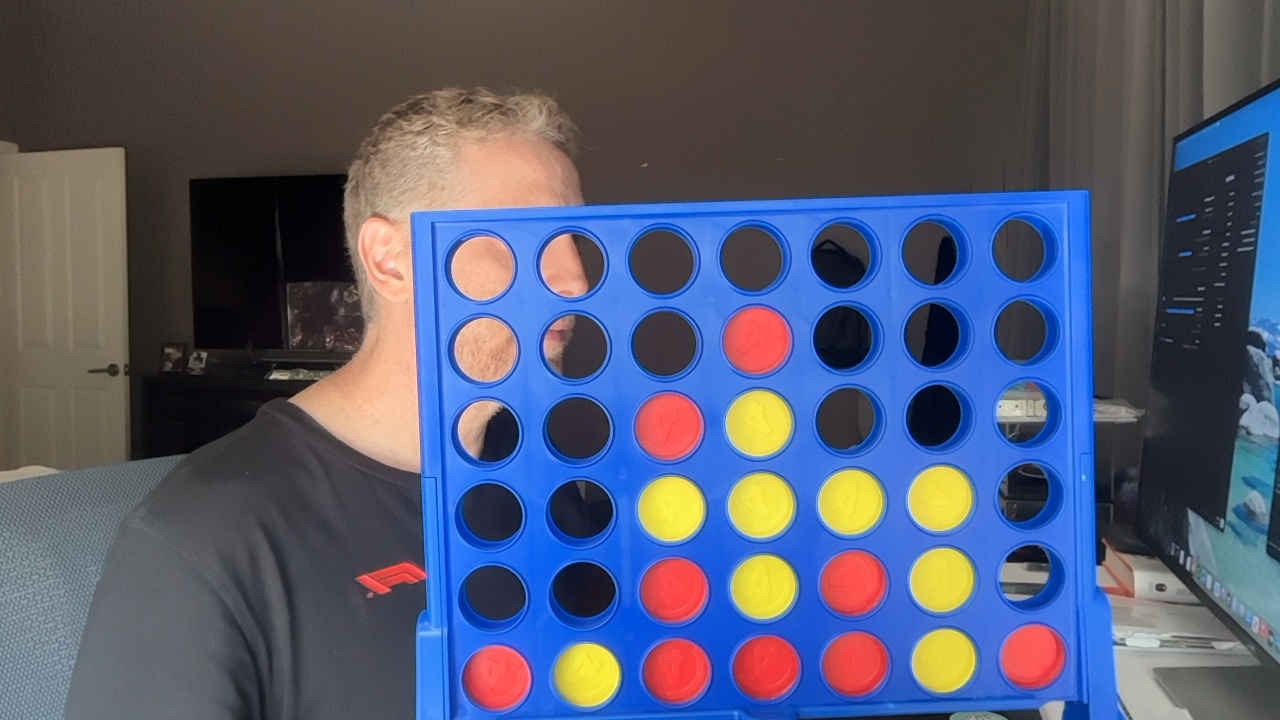red piece: (723, 306, 791, 374), (634, 392, 703, 459), (462, 645, 530, 711), (732, 635, 799, 701), (640, 557, 707, 623), (642, 639, 710, 704), (822, 631, 888, 696), (820, 550, 886, 615), (1000, 624, 1065, 689)
yellow piece: (637, 475, 705, 542), (728, 472, 795, 539), (725, 390, 793, 456), (553, 642, 620, 708), (818, 469, 884, 536), (730, 554, 797, 620), (907, 465, 973, 531), (910, 547, 974, 612), (912, 628, 976, 693)
